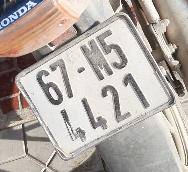1: (119, 66, 158, 114)
2: (97, 80, 137, 127)
4: (75, 91, 113, 136), (55, 104, 92, 148)
5: (93, 26, 135, 75)
6: (31, 65, 67, 110)
7: (47, 55, 82, 100)
M: (76, 35, 117, 85)
